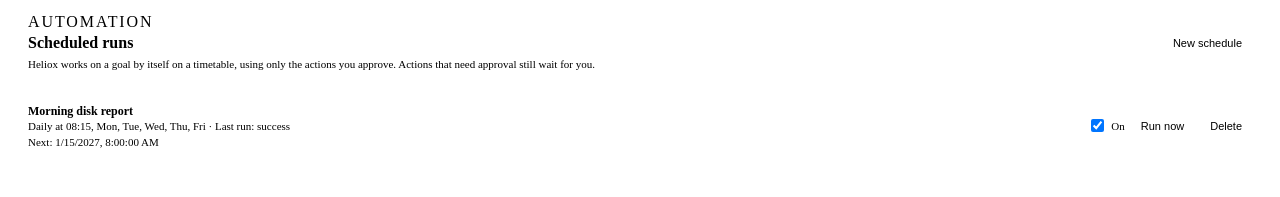
Test: ScheduledRunsPanel › puts the switch back and shows the daemon's message when turning a schedule off fails
Click the checkbox named "Enable Morning disk report".
click(1098, 126)  # box [1091, 119, 1104, 132]
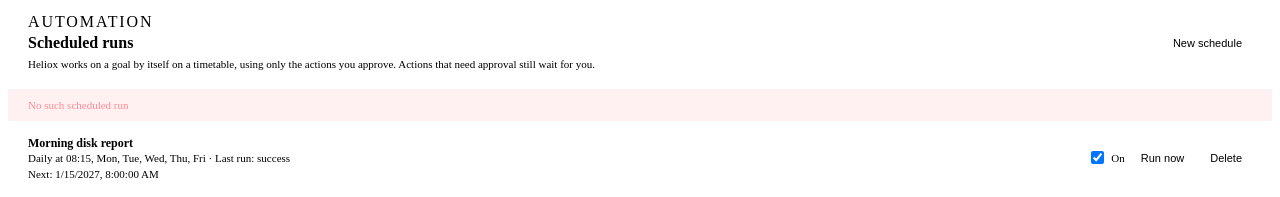
Expected: the checkbox named "Enable Morning disk report" is checked, [1091, 151, 1104, 164]
Result: the message reads "No such scheduled run" at [28, 99, 128, 111]
